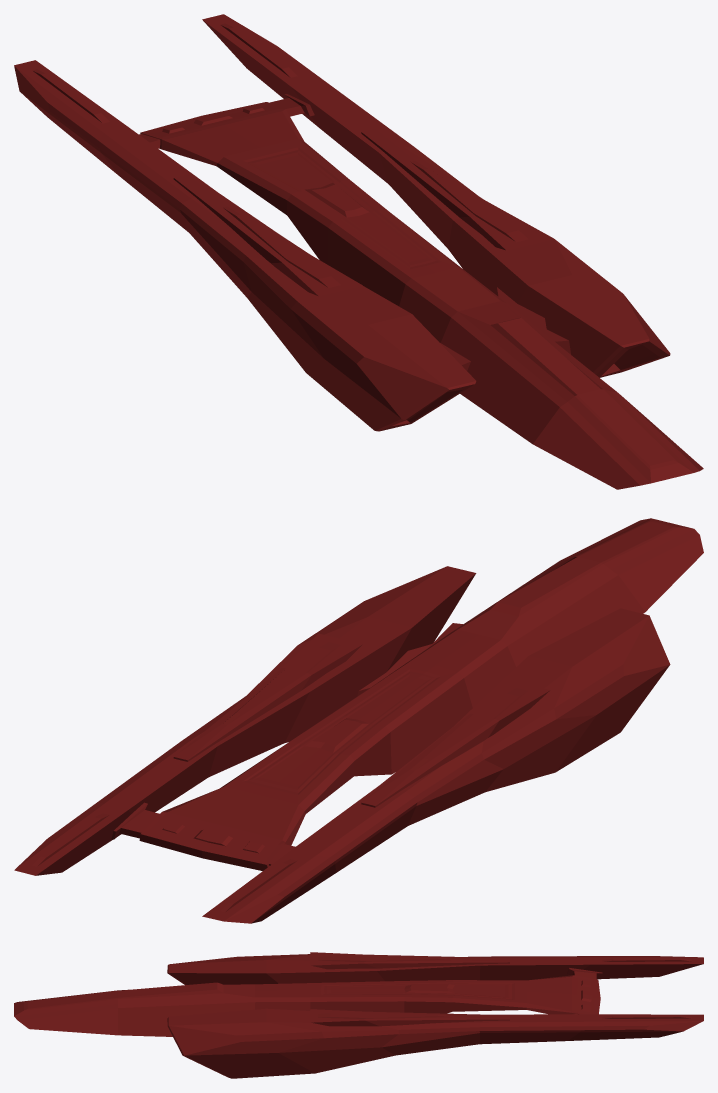
Rendered from Ship.fbx.
3 views of the same model, one above another, from view 1: azimuth 30°, elevation 25°; view 2: azimuth 150°, elevation 25°; view 3: azimuth 270°, elevation 25° (orthographic). The views are drawn at different scales.
Visible parts, largest first — view 1: Ship; view 2: Ship; view 3: Ship.
Part boxes in pixels (box(x1,y1,x2,y2)): Ship: box(14, 14, 703, 489); Ship: box(14, 518, 703, 923); Ship: box(14, 952, 703, 1078).
Size of the model in its own units: 0.8239 by 0.2568 by 2.9.
